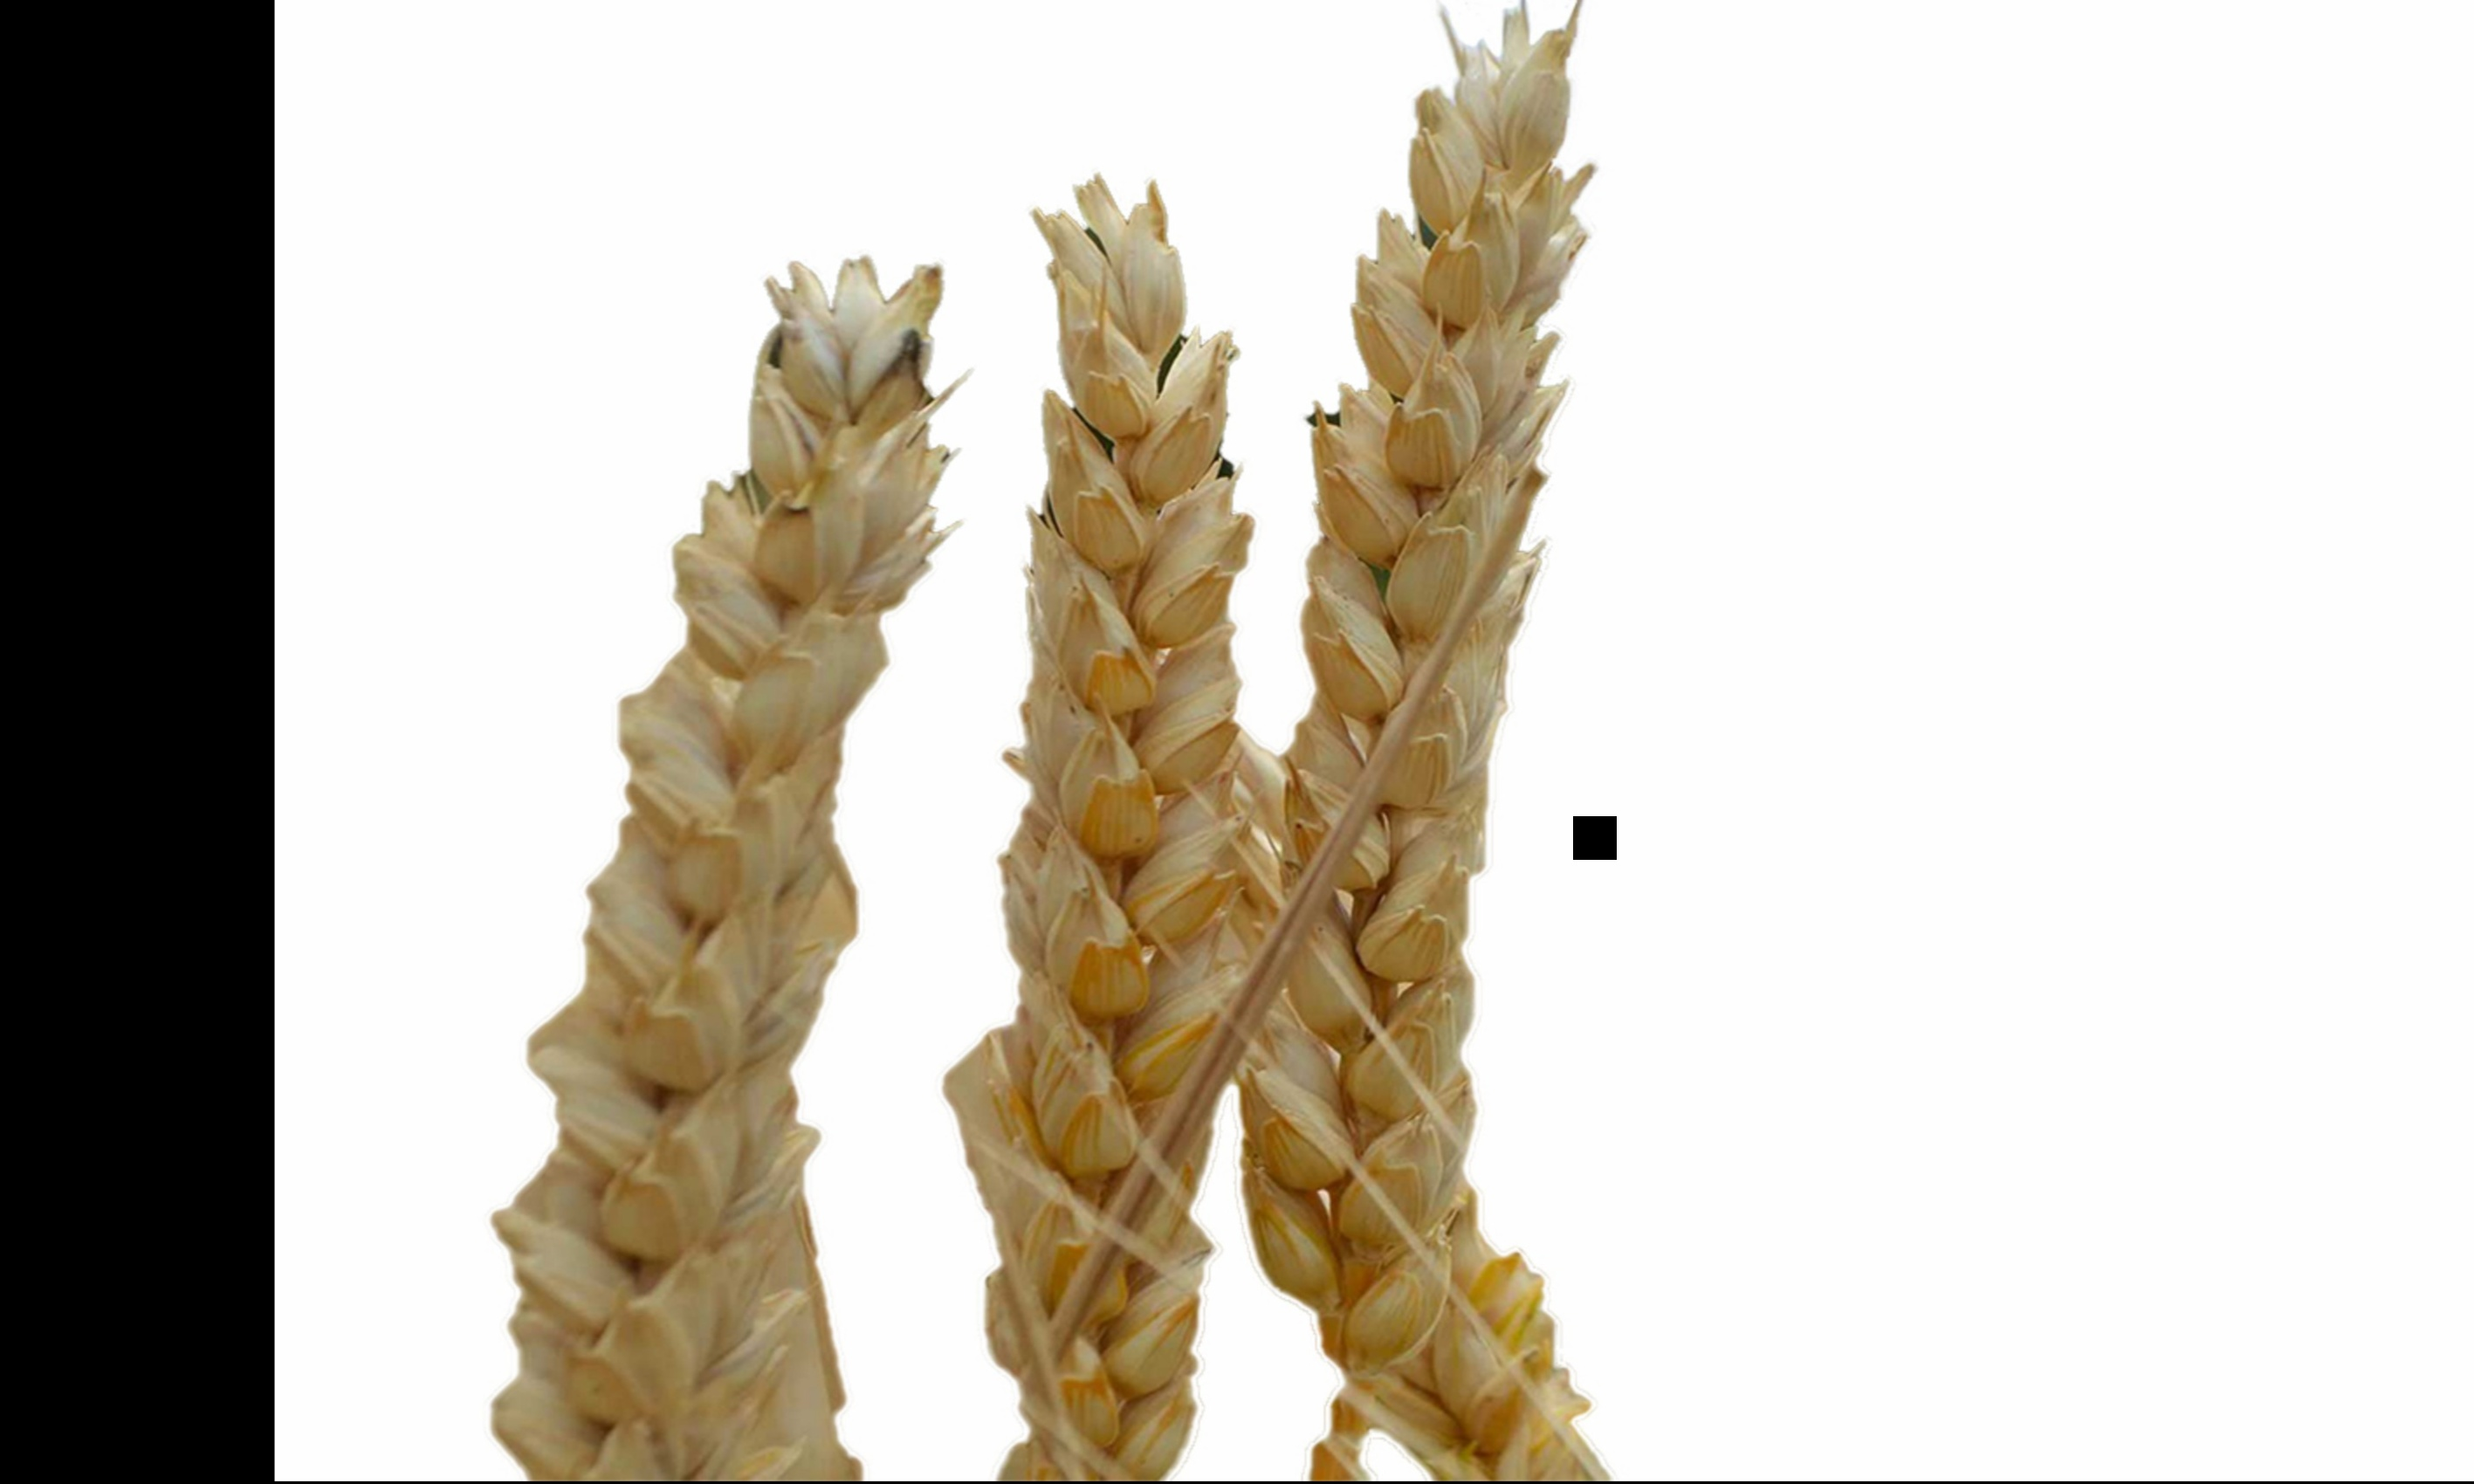wheat: (470, 247, 939, 1477), (1268, 11, 1618, 1461), (962, 125, 1264, 1473)
